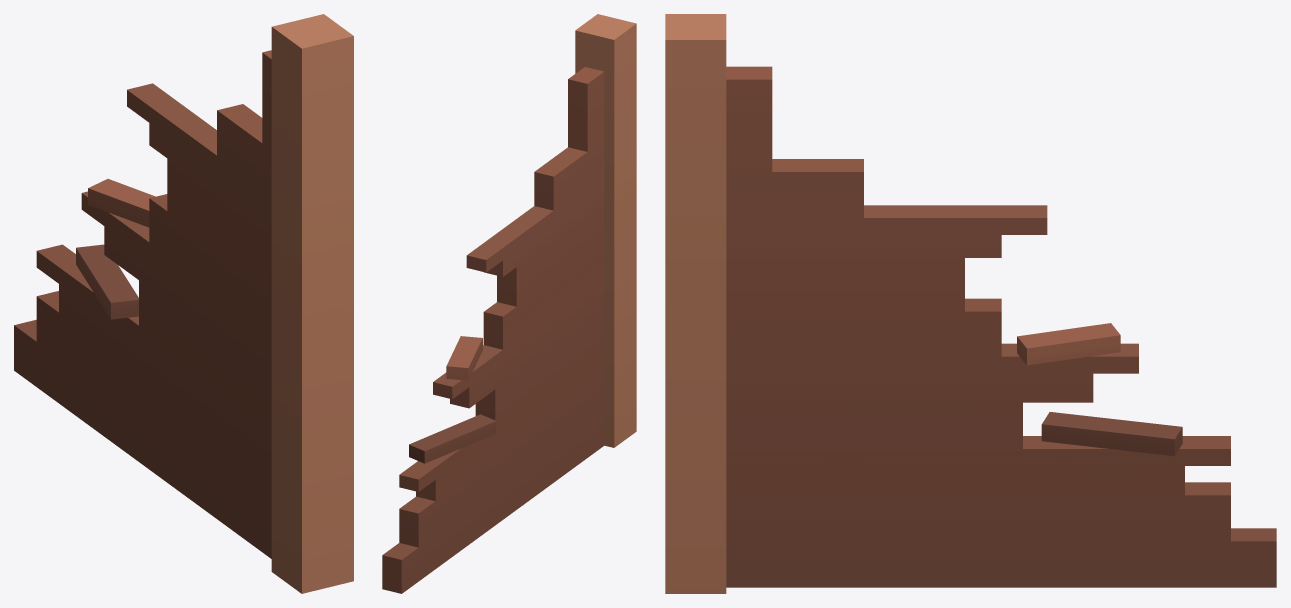
File: wall-wood-broken.glb
3 views of the same model, side by side, from view 1: azimuth 30°, elevation 25°; view 2: azimuth 150°, elevation 25°; view 3: azimuth 270°, elevation 25° (orthographic). The views are drawn at different scales.
Visible parts, largest first — view 1: wall-wood-broken; view 2: wall-wood-broken; view 3: wall-wood-broken.
Boxes of the visible parts, x1,y1,x2,y2 form: wall-wood-broken: (14, 14, 353, 593); wall-wood-broken: (382, 14, 636, 593); wall-wood-broken: (665, 14, 1276, 593).
Bounding box in the file's own units: 0.1129 × 1 × 1.
1 material, 1 textured.
